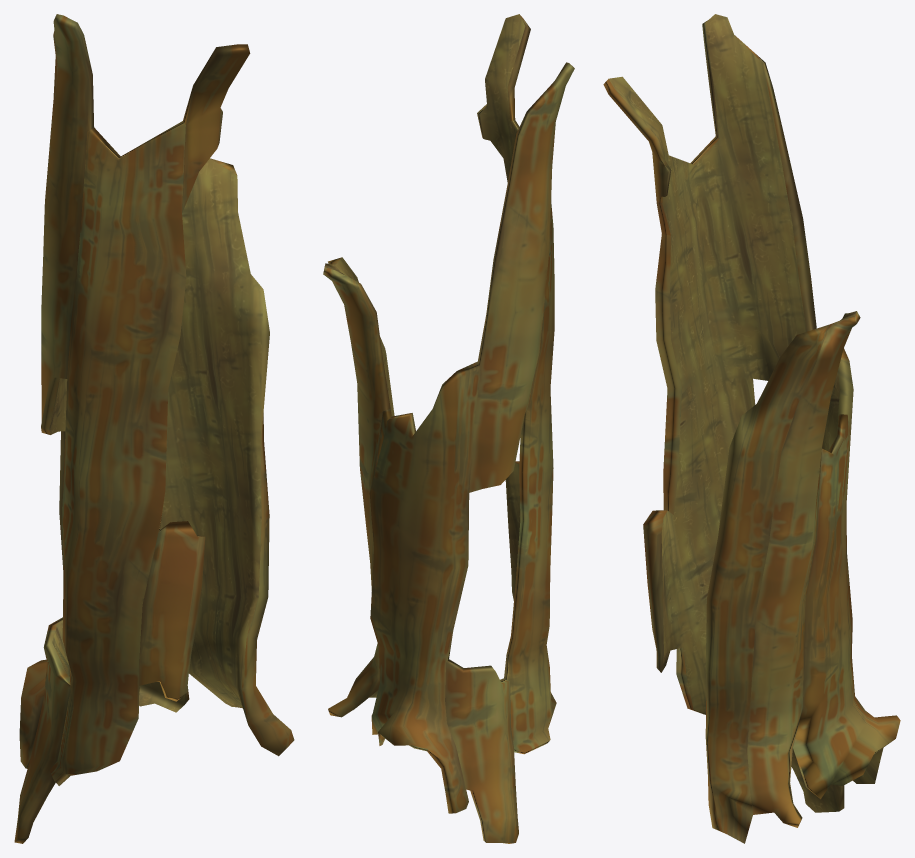
The model's file is env_forest_gianttree_hollowtrunk_lod2.fbx.
The picture shows the model from 3 angles, left to right: view 1: azimuth 30°, elevation 25°; view 2: azimuth 150°, elevation 25°; view 3: azimuth 270°, elevation 25°; orthographic projection. The views are drawn at different scales.
Parts seen in each view (by area): view 1: hollowtrunk_lod2; view 2: hollowtrunk_lod2; view 3: hollowtrunk_lod2.
Boxes of the visible parts, bbox=[...] form: hollowtrunk_lod2: bbox=[14, 14, 294, 843]; hollowtrunk_lod2: bbox=[323, 14, 574, 843]; hollowtrunk_lod2: bbox=[603, 14, 900, 843].
Bounding box in the file's own units: 35.42 × 122 × 41.56.
